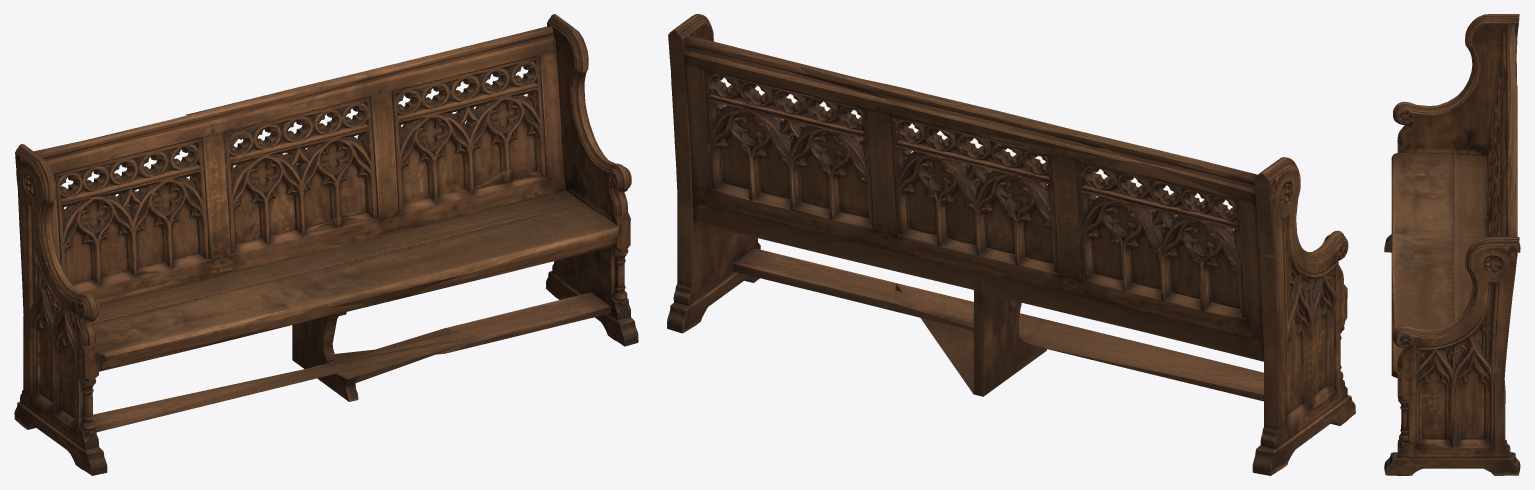
The model's file is pew.glb.
The picture shows the model from 3 angles, left to right: view 1: azimuth 30°, elevation 25°; view 2: azimuth 150°, elevation 25°; view 3: azimuth 270°, elevation 25°; orthographic projection. The views are drawn at different scales.
Visible parts, largest first — view 1: Mesh_0; view 2: Mesh_0; view 3: Mesh_0.
Part boxes in pixels (x1,y1,x2,y2): Mesh_0: [14, 14, 638, 475]; Mesh_0: [667, 14, 1355, 475]; Mesh_0: [1384, 14, 1520, 475].
Bounding box in the file's own units: 1.89 × 0.901 × 0.4724.
Materials: 1 (1 with a texture image).
